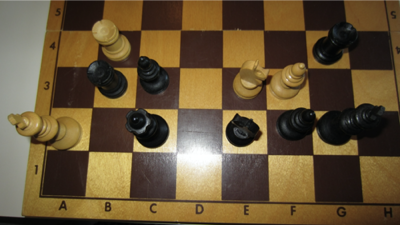black-bishop: (137, 56, 170, 96), (277, 108, 317, 141)
black-king: (317, 104, 387, 146)
black-knight: (226, 113, 261, 148)
black-queen: (125, 109, 170, 150)
black-rook: (313, 22, 359, 66), (87, 60, 128, 99)
white-bishop: (270, 62, 307, 101)
white-king: (7, 111, 84, 152)
white-knight: (233, 59, 271, 100)
white-rook: (92, 20, 132, 62)
